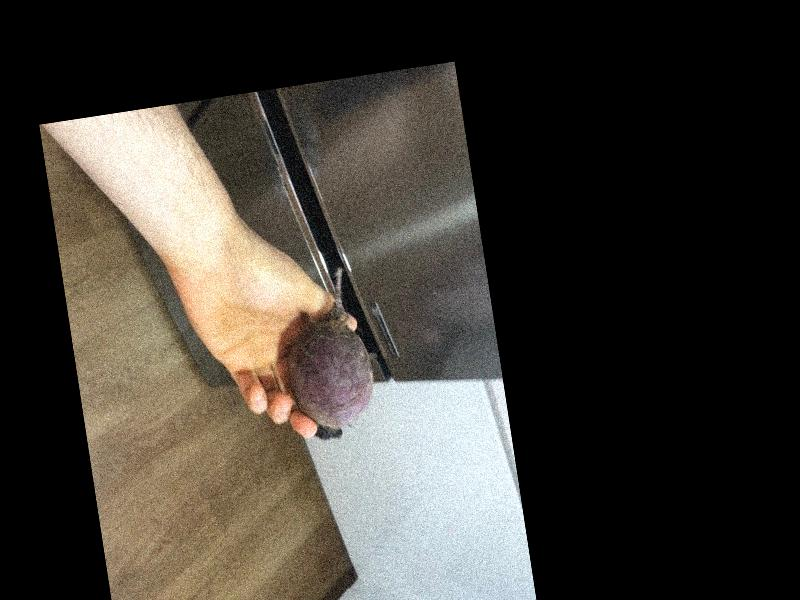Beet: (276, 267, 380, 445)
